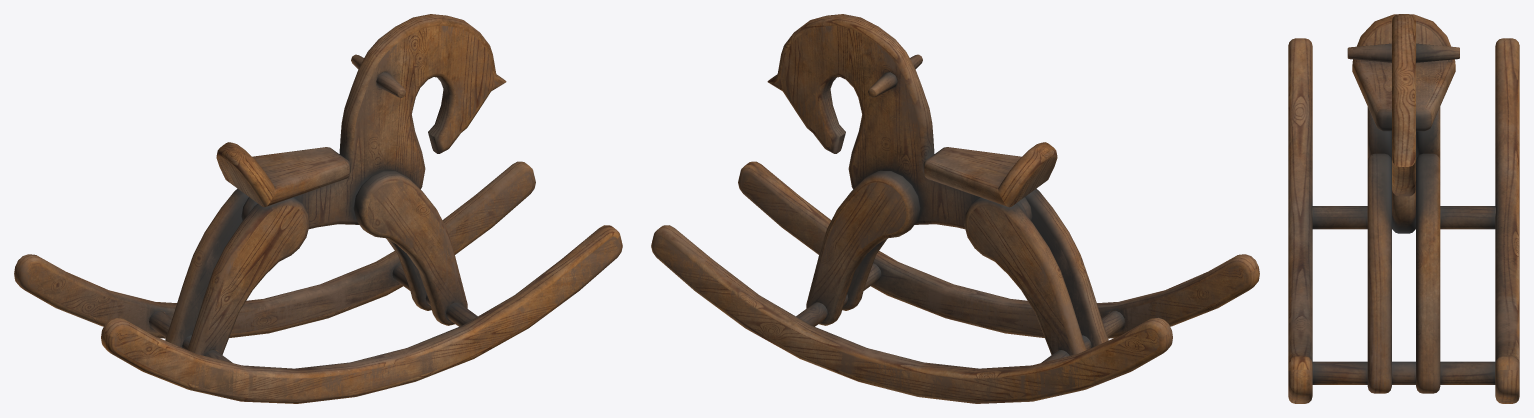
File: rocking_horse.glb
3 views of the same model, side by side, from view 1: azimuth 30°, elevation 25°; view 2: azimuth 150°, elevation 25°; view 3: azimuth 270°, elevation 25° (orthographic). The views are drawn at different scales.
Parts seen in each view (by area): view 1: LP; view 2: LP; view 3: LP.
Boxes of the visible parts, bbox=[...] form: LP: bbox=[14, 14, 622, 403]; LP: bbox=[651, 14, 1259, 403]; LP: bbox=[1288, 14, 1519, 403].
Bounding box in the file's own units: 4.84 × 2.85 × 1.58.
1 material, 1 textured.
